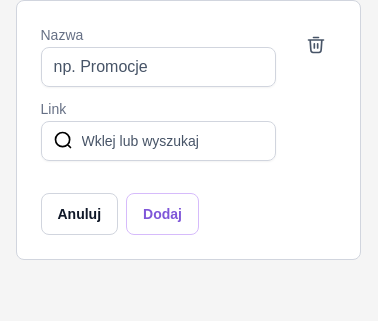
Scenario: AddMenuItemForm › displays validation errors when form inputs are invalid
Click the button "Dodaj" at (162, 214), box [126,193,199,235]
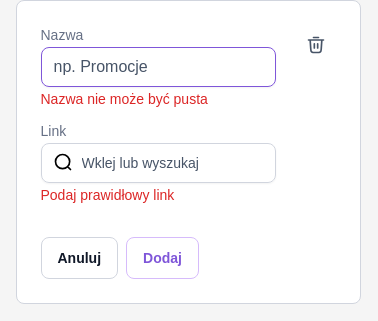
Expected: the text "Nazwa nie może być pusta" is shown, [40,91,208,107]
Expected: the text "Podaj prawidłowy link" is shown, [40,187,174,203]
